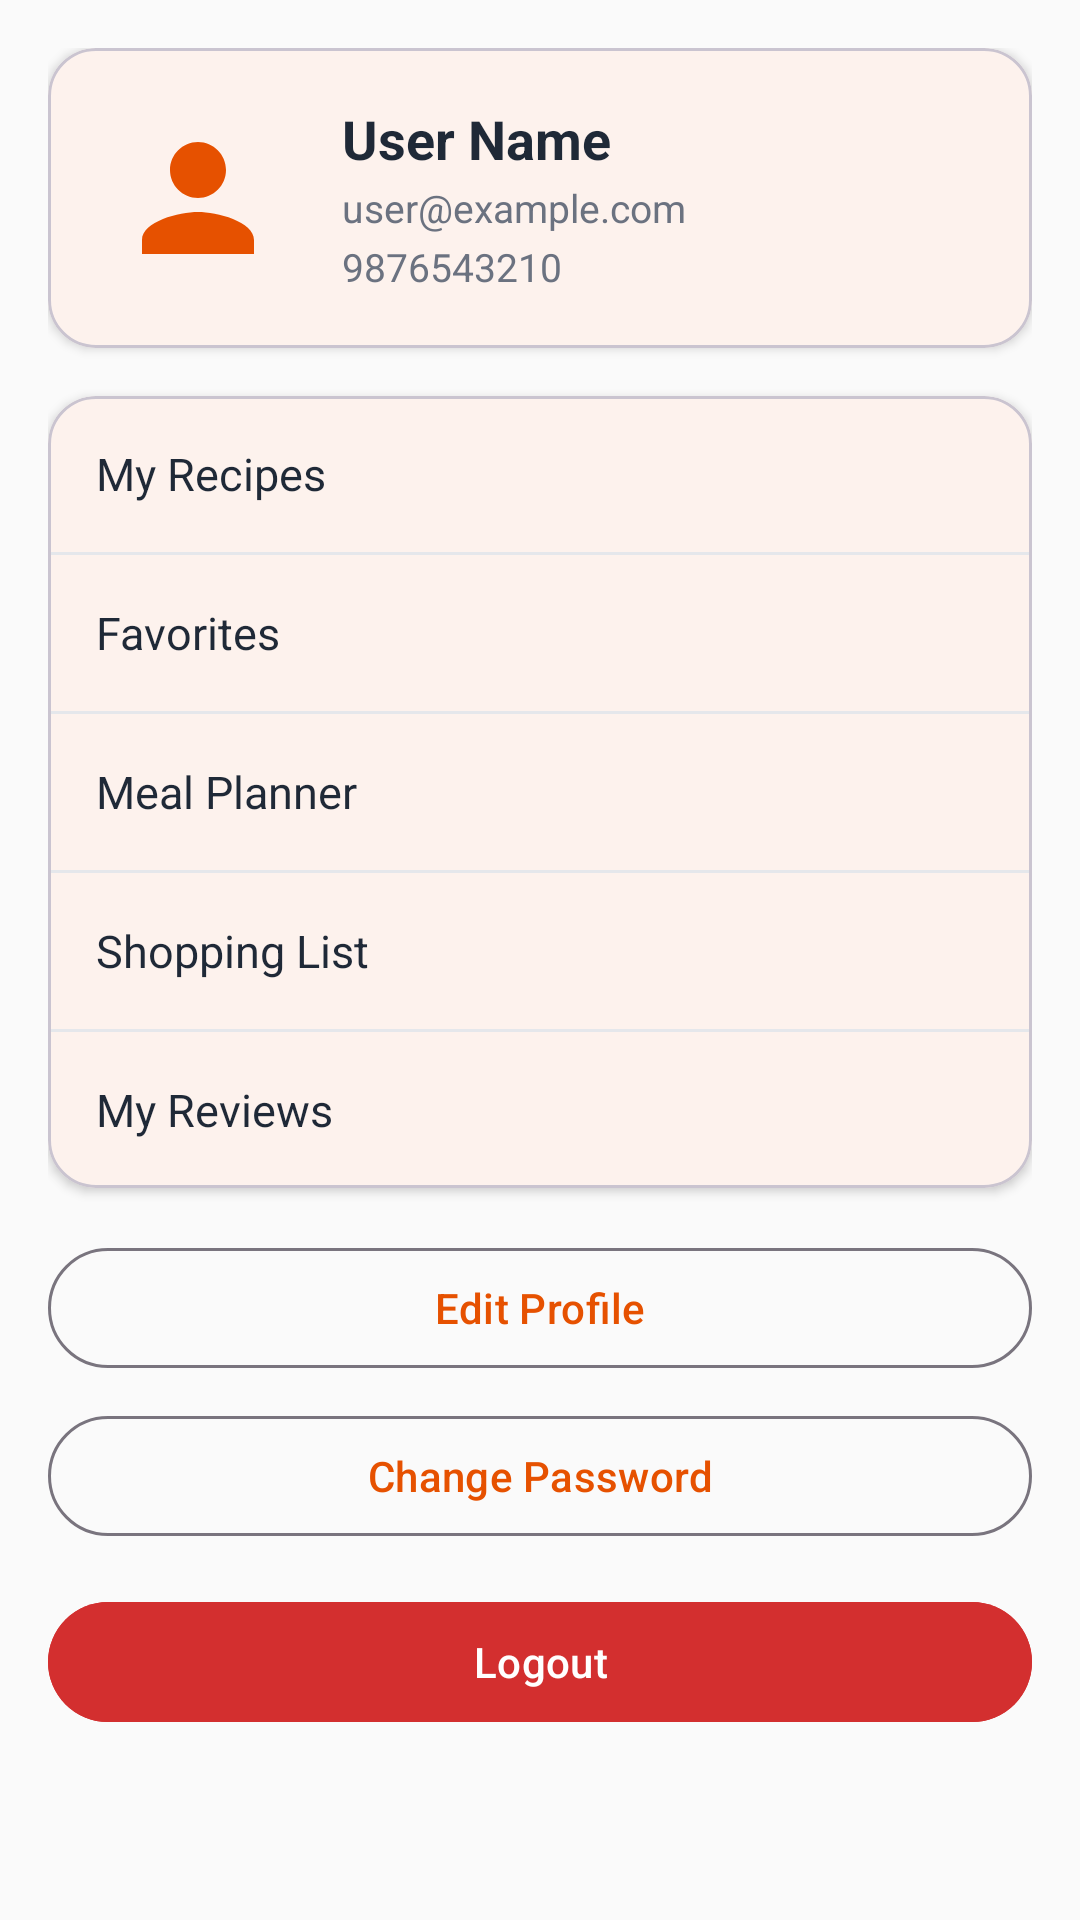

Screen size 1080w x 1920h. Icon name, then its center in pixels as (x=x, y=y):
person: (x=198, y=198)
